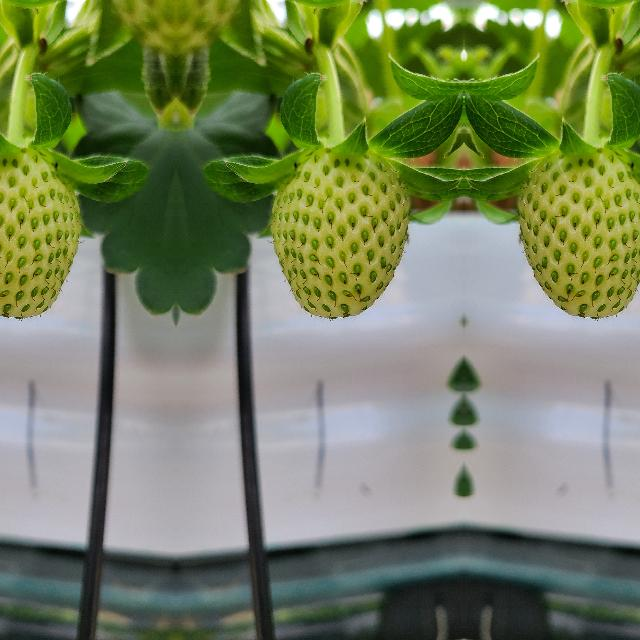Health_25: (266, 148, 412, 322), (514, 148, 640, 322), (0, 148, 84, 322)
